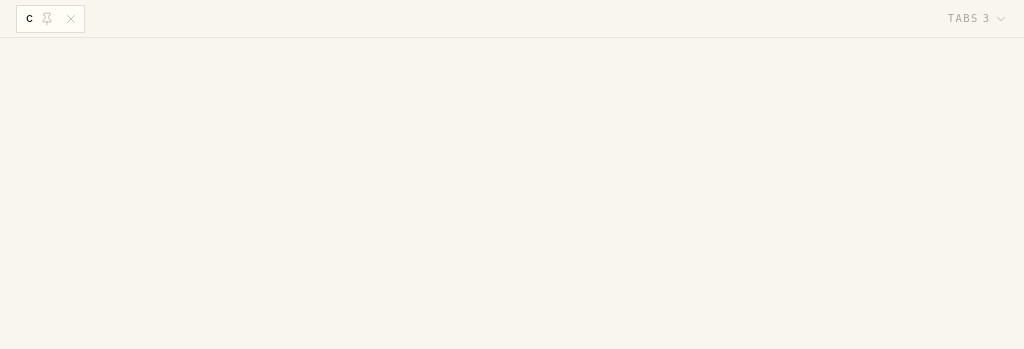
Scenario: TabBar › on a phone › shows the note you are reading and an Open tabs button with the rest
Expected: the button named "Pin c" is shown, [37,8,57,28]
Click the button with aria-label "Open tabs, 2 more".
click(978, 18)  # box [942,4,1014,32]
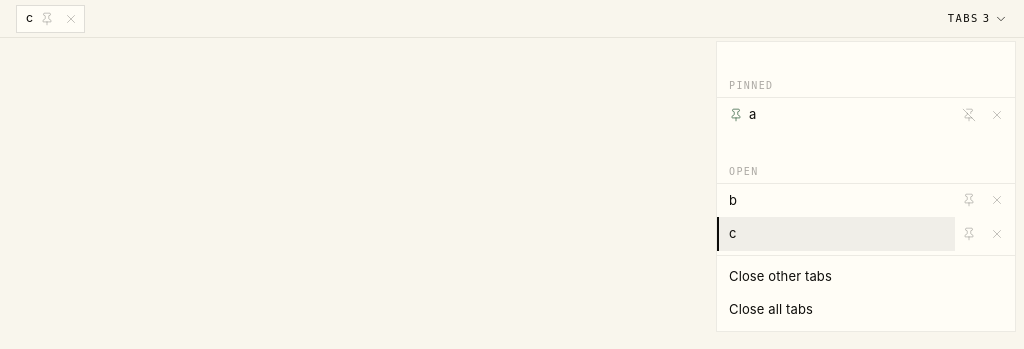
Expected: the menu item named "Unpin a" is shown, [955,101,983,129]
Expected: the menu item named "Close b" is shown, [983,186,1011,214]
